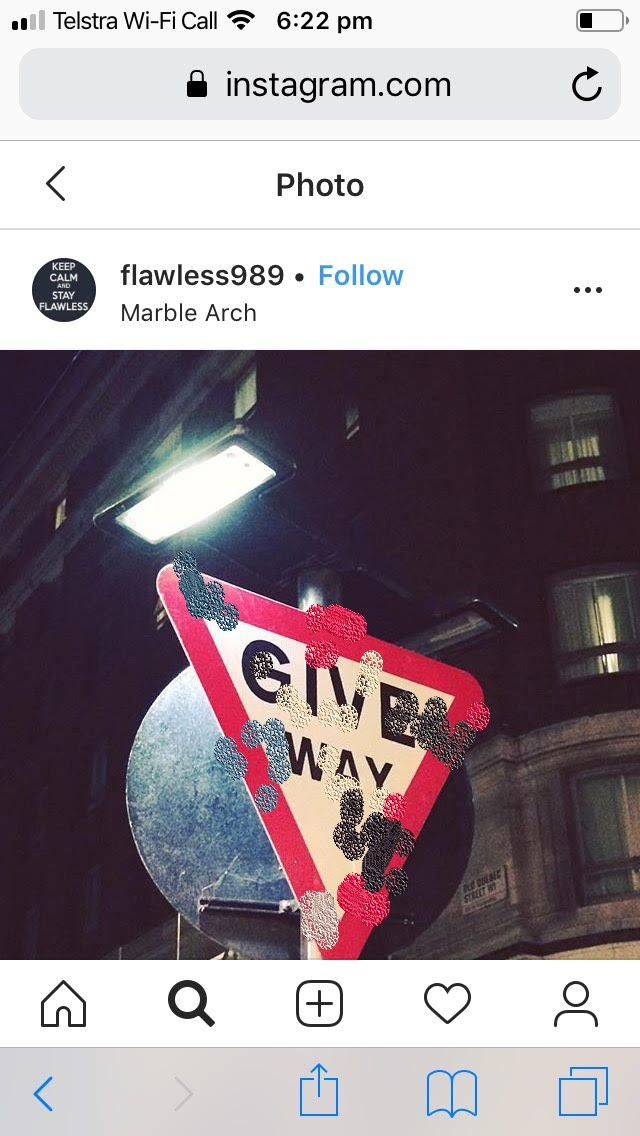giveway: (160, 568, 491, 956), (282, 572, 420, 954)
